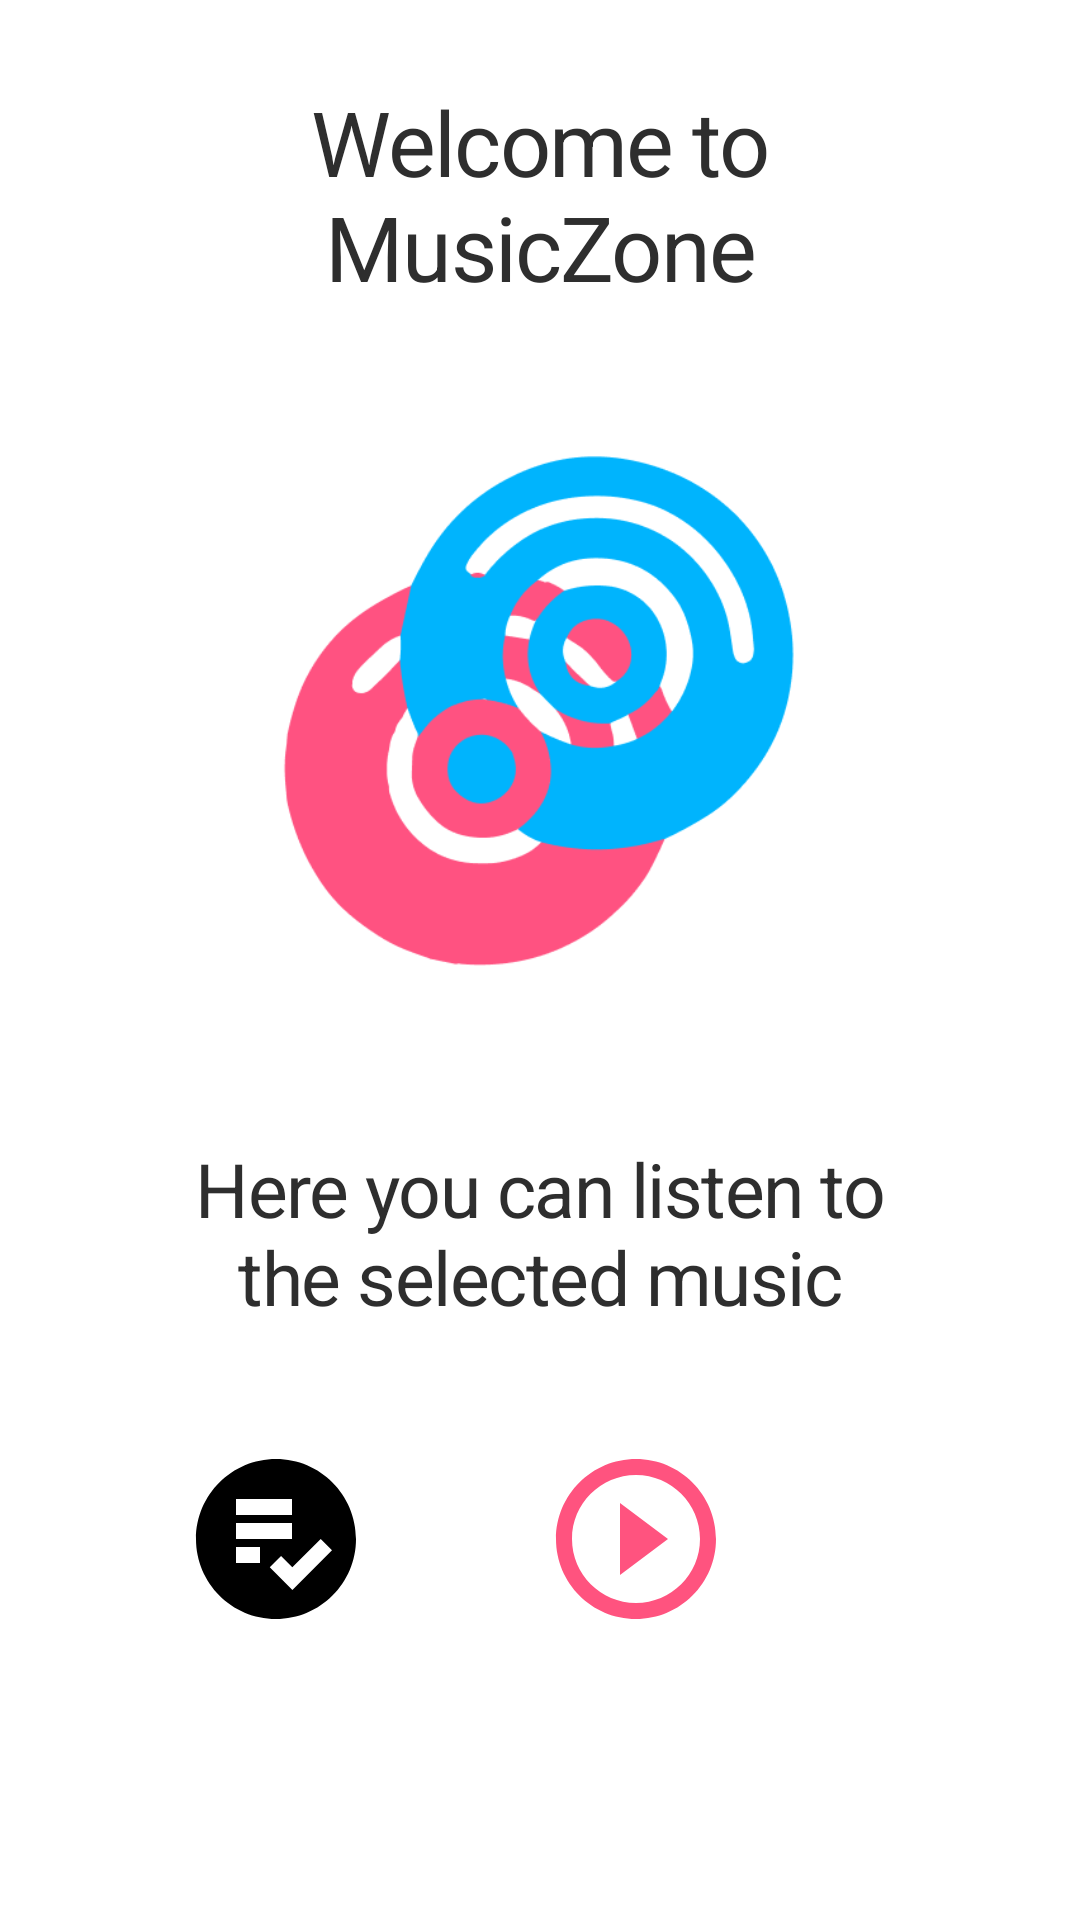

Where to tap for icons on this 1080px x 1920px app screen, as (x=x, y=y):
play: (x=636, y=1539)
